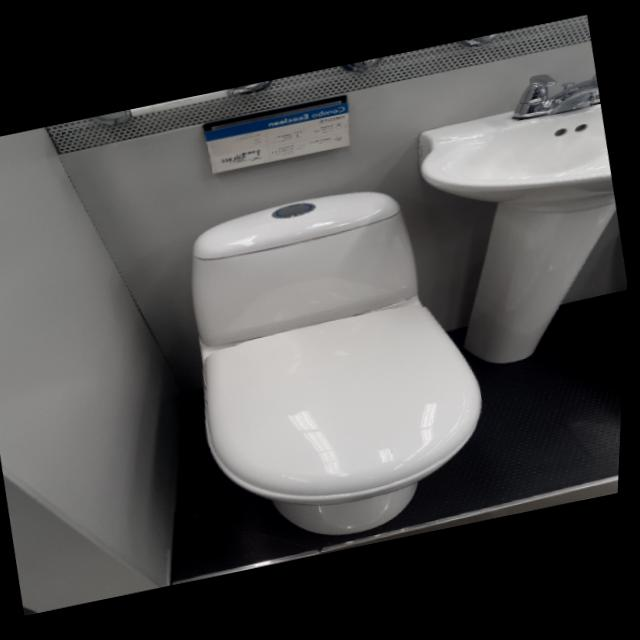toilet: (166, 169, 515, 561)
